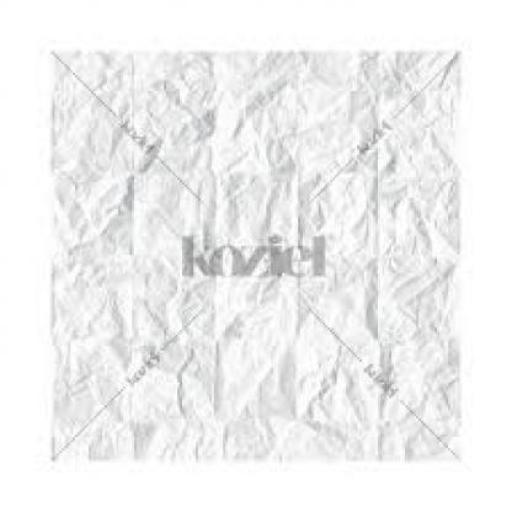paper: (47, 47, 460, 460)
